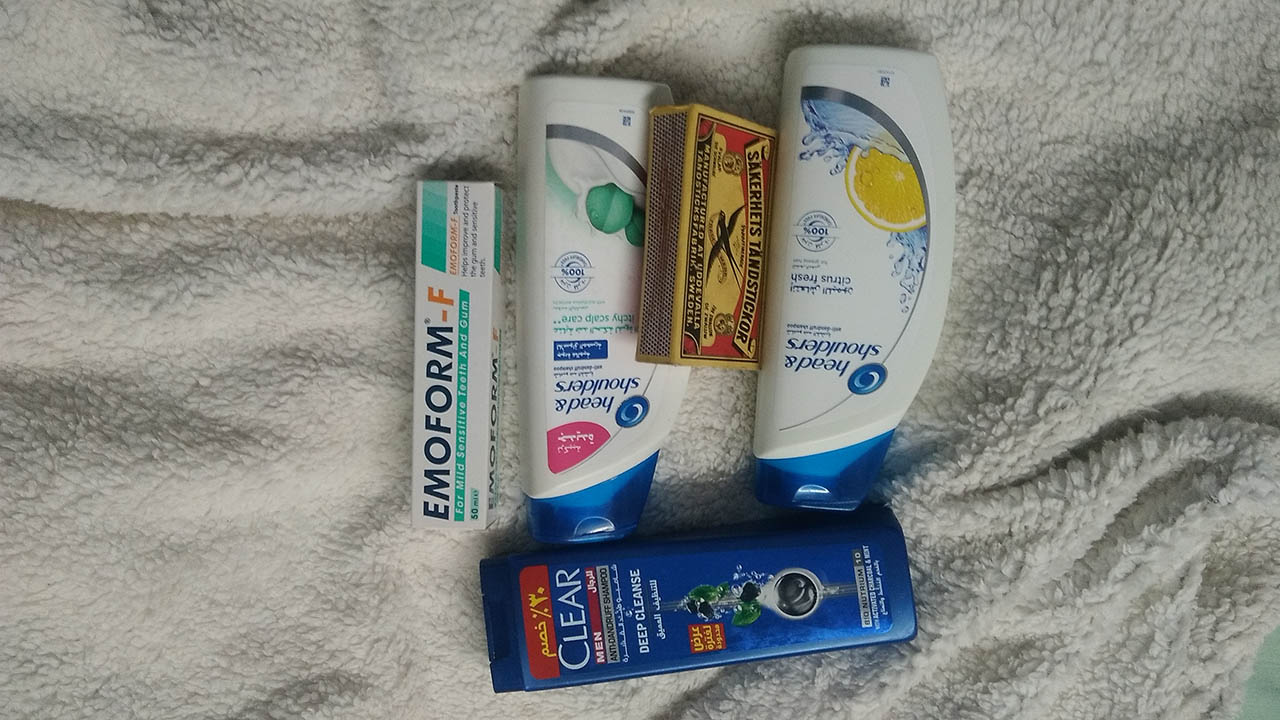Shampoo-Clear 4.7$: (469, 548, 960, 690)
Toothpaste-F 1.5$: (412, 181, 503, 529)
match-sticks .90$: (640, 118, 779, 370)
shampoo-Lemon 3.5$: (780, 45, 939, 510)
shampoo-green 4.5$: (518, 71, 678, 531)
